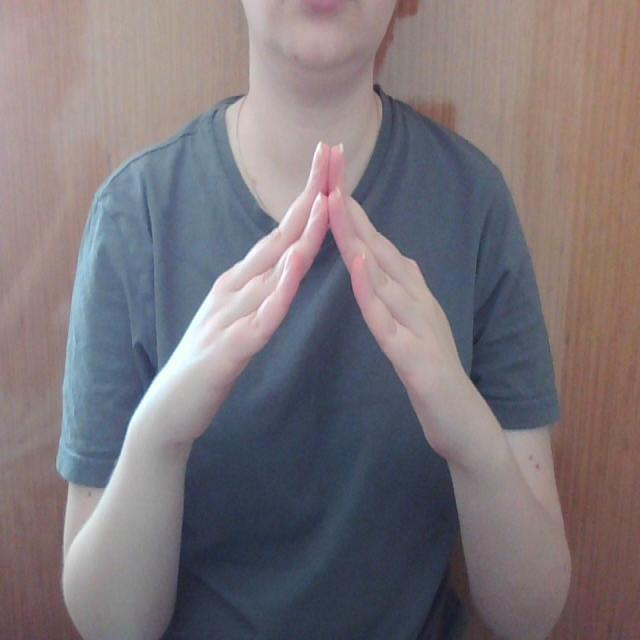Ev: (156, 136, 490, 480)
